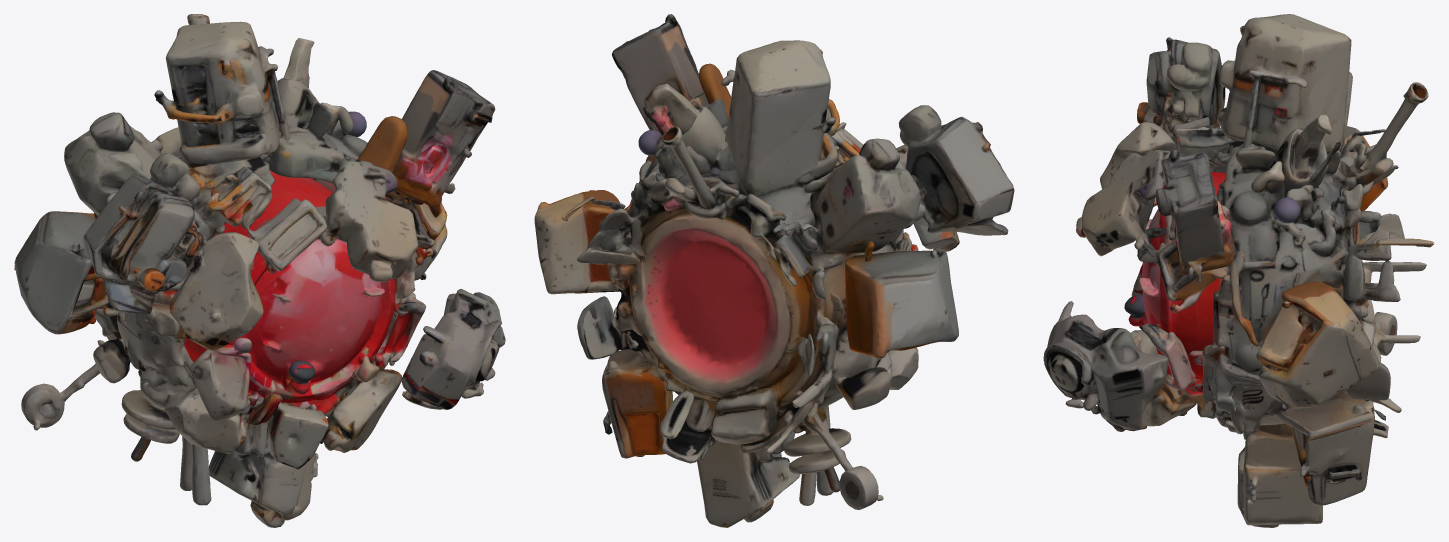
File: SM_Enemy_GravityGolem_A.obj
3 renders of one model, left to right at view 1: azimuth 30°, elevation 25°; view 2: azimuth 150°, elevation 25°; view 3: azimuth 270°, elevation 25°, orthographic. The views are drawn at different scales.
Parts seen in each view (by area): view 1: tripo_node_0118adbd-7e2c-4f43-8bfd-e19fdebce202; view 2: tripo_node_0118adbd-7e2c-4f43-8bfd-e19fdebce202; view 3: tripo_node_0118adbd-7e2c-4f43-8bfd-e19fdebce202.
Boxes of the visible parts, x1,y1,x2,y2 form: tripo_node_0118adbd-7e2c-4f43-8bfd-e19fdebce202: (14,14,505,527); tripo_node_0118adbd-7e2c-4f43-8bfd-e19fdebce202: (534,14,1014,527); tripo_node_0118adbd-7e2c-4f43-8bfd-e19fdebce202: (1043,14,1433,527).
Bounding box in the file's own units: 0.8667 × 1 × 0.7288.
1 material, 1 textured.
